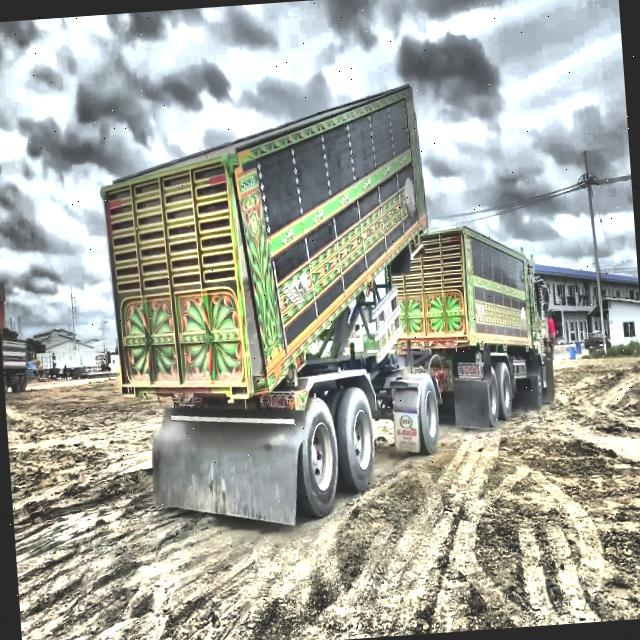trailer: (94, 80, 560, 528)
